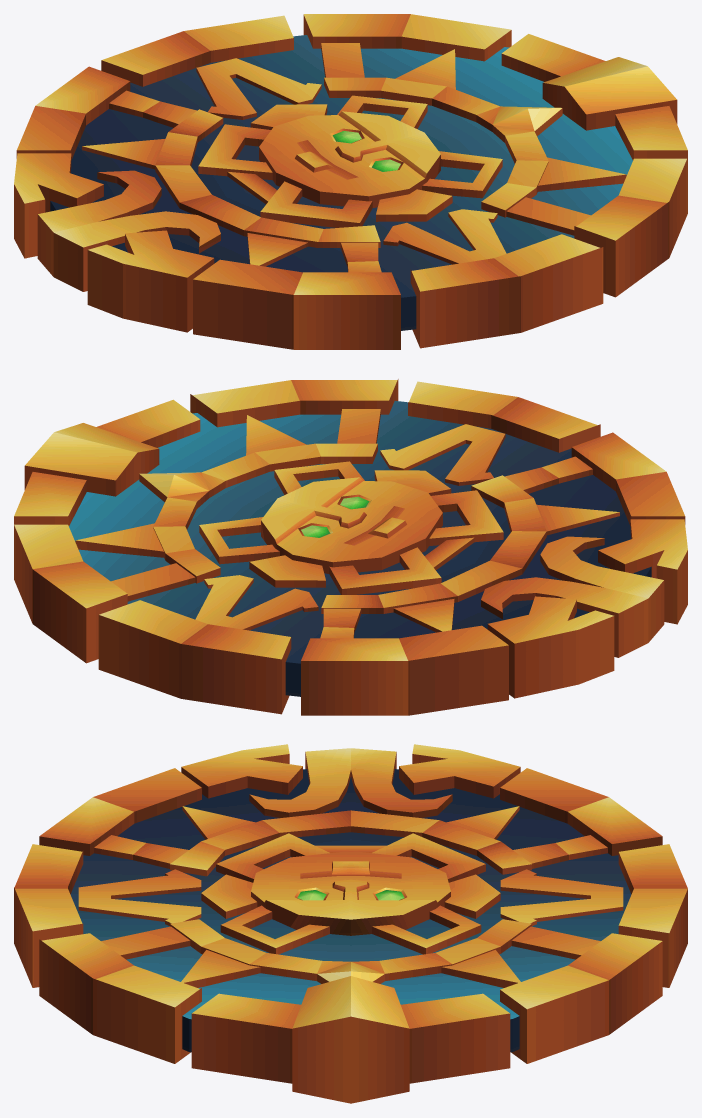
The model's file is Peru.glb.
3 renders of one model, top to bottom at view 1: azimuth 30°, elevation 25°; view 2: azimuth 150°, elevation 25°; view 3: azimuth 270°, elevation 25°, orthographic.
Visible parts, largest first — view 1: Peru; view 2: Peru; view 3: Peru.
Part boxes in pixels (x1,y1,x2,y2): Peru: [14, 14, 687, 349]; Peru: [14, 379, 687, 715]; Peru: [14, 744, 687, 1103].
Bounding box in the file's own units: 7.57 × 1.06 × 7.44.
Materials: 1 (1 with a texture image).
